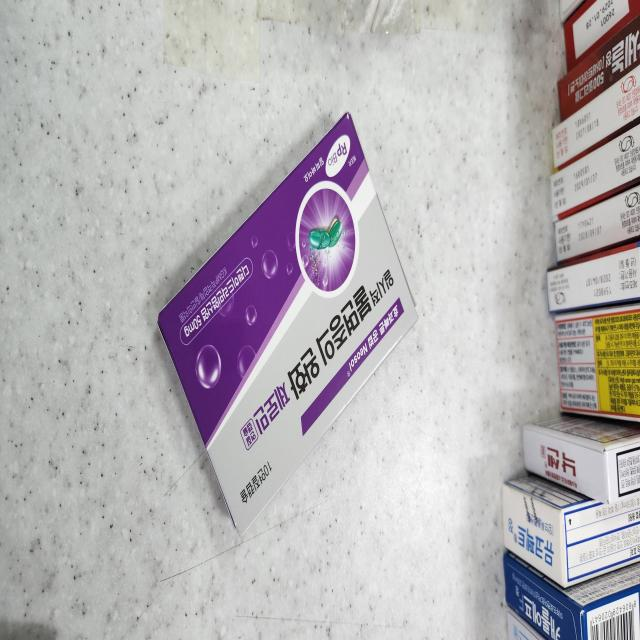box: (158, 113, 417, 526), (504, 472, 639, 585), (504, 552, 640, 639)
